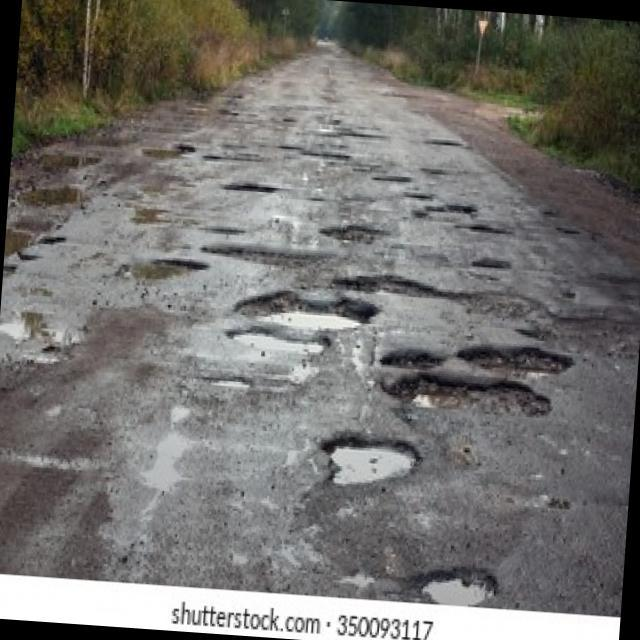Pothole: (332, 272, 548, 324), (378, 372, 552, 418), (232, 284, 382, 334), (198, 240, 342, 289), (317, 432, 422, 493), (0, 297, 89, 368), (515, 314, 640, 362), (455, 340, 576, 382), (223, 323, 330, 358), (420, 564, 499, 608), (114, 254, 208, 285), (379, 346, 444, 374), (316, 220, 388, 245), (136, 138, 196, 165), (317, 128, 390, 141), (199, 150, 262, 164), (222, 178, 276, 194), (456, 220, 508, 236), (205, 372, 248, 389), (425, 204, 476, 216), (302, 148, 350, 160), (472, 256, 509, 271), (369, 172, 412, 184), (426, 136, 461, 148), (554, 224, 580, 237), (405, 189, 431, 201), (408, 207, 428, 218), (278, 143, 302, 150), (284, 116, 295, 125)
